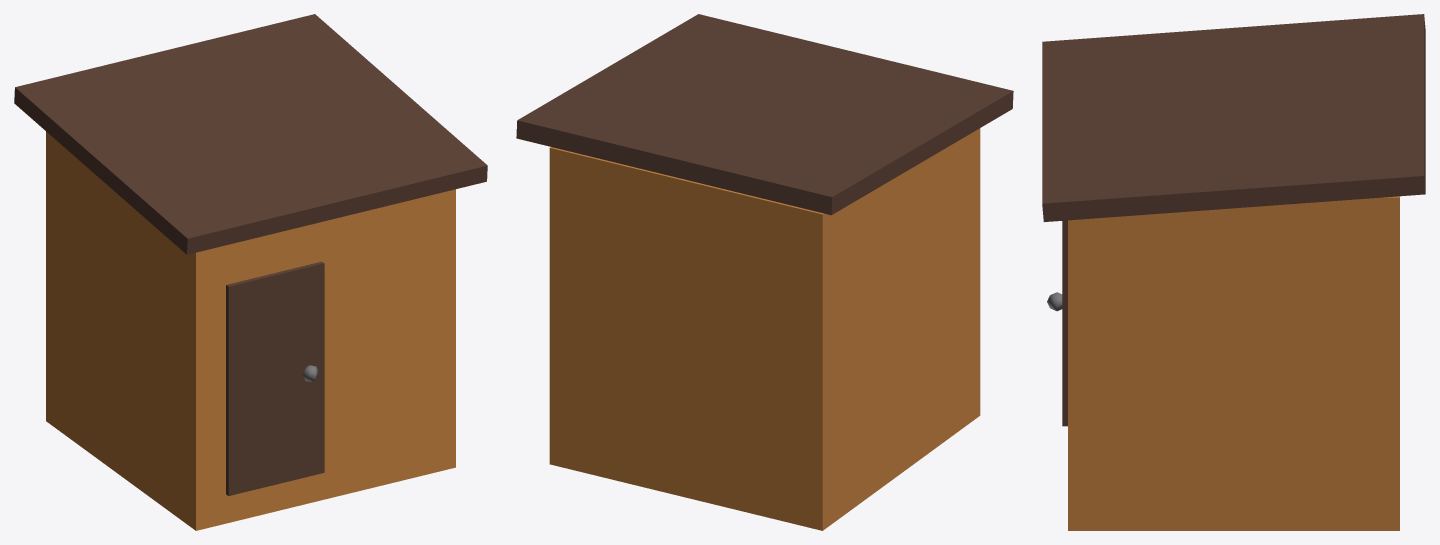
File: toolshed.glb
3 renders of one model, left to right at view 1: azimuth 30°, elevation 25°; view 2: azimuth 150°, elevation 25°; view 3: azimuth 270°, elevation 25°, orthographic. The views are drawn at different scales.
Visible parts, largest first — view 1: toolshed, door_sway; view 2: toolshed; view 3: toolshed, door_sway.
Boxes of the visible parts, x1=… form: toolshed: x1=14, y1=14, x2=487, y2=530; door_sway: x1=226, y1=261, x2=324, y2=495; toolshed: x1=516, y1=14, x2=1013, y2=530; toolshed: x1=1042, y1=14, x2=1425, y2=530; door_sway: x1=1047, y1=220, x2=1067, y2=426.
Bounding box in the file's own units: 0.75 × 0.7899 × 0.7508.
